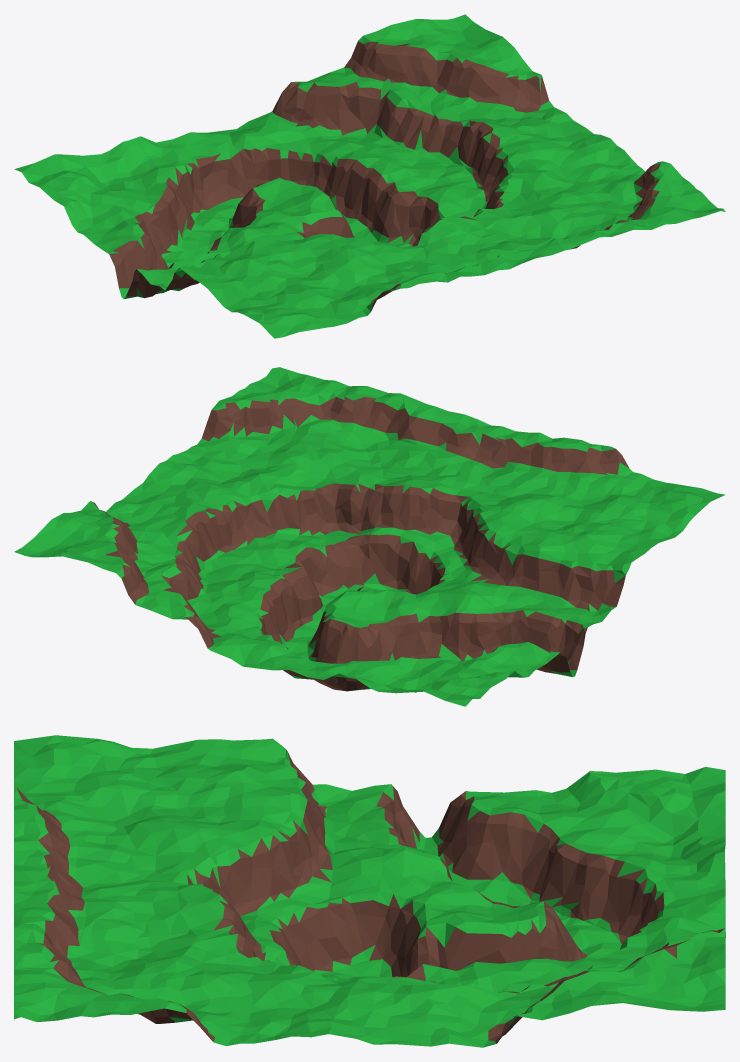
Rendered from terrain_MY_ASSET.fbx.
3 views of the same model, one above another, from view 1: azimuth 30°, elevation 25°; view 2: azimuth 150°, elevation 25°; view 3: azimuth 270°, elevation 25° (orthographic). The views are drawn at different scales.
Parts seen in each view (by area): view 1: Terrain; view 2: Terrain; view 3: Terrain.
Part boxes in pixels (x1=…): Terrain: x1=14, y1=14, x2=725, y2=338; Terrain: x1=14, y1=367, x2=725, y2=706; Terrain: x1=14, y1=735, x2=725, y2=1047.
Size of the model in its own units: 2003 by 461 by 2002.
